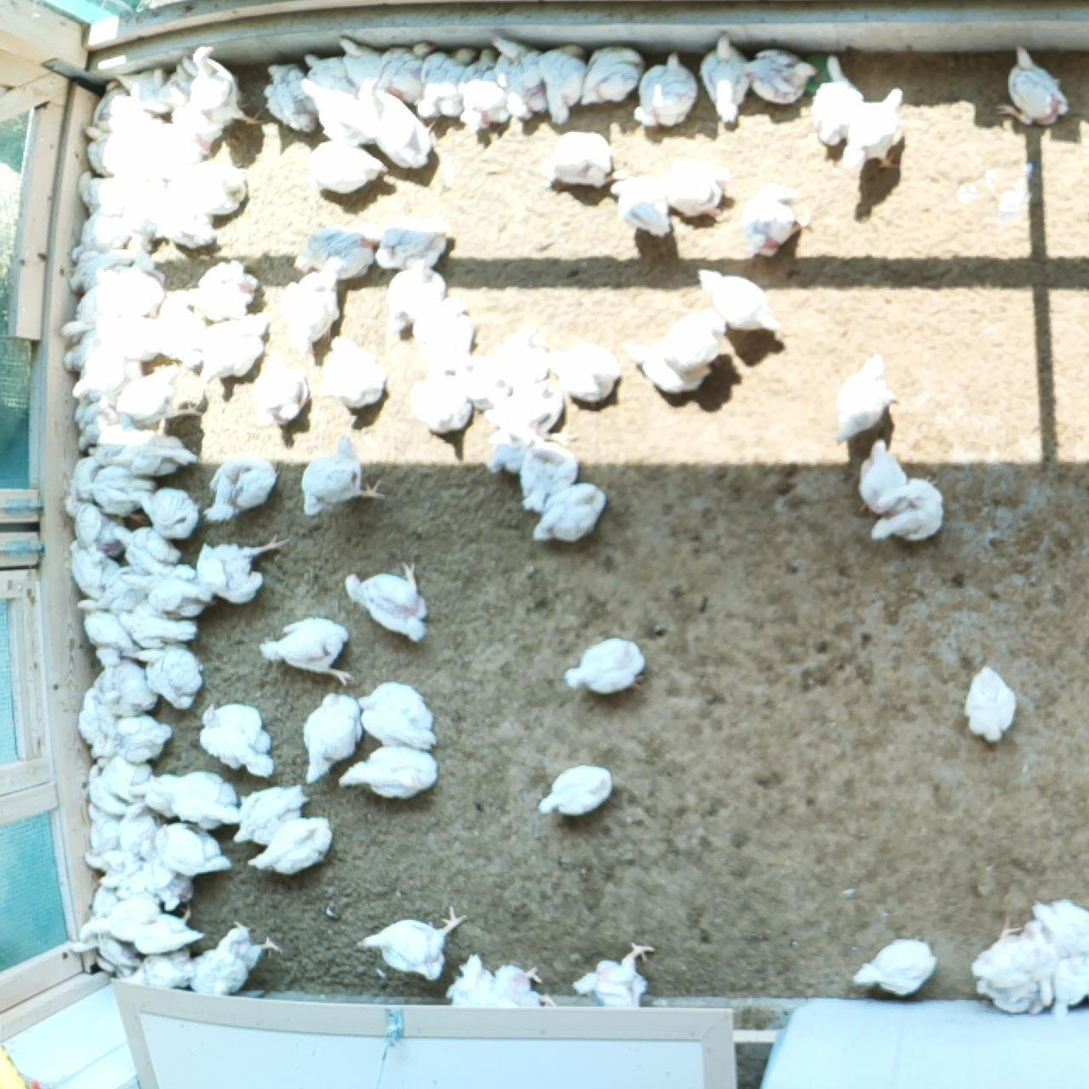chicken: (356, 904, 464, 981), (296, 430, 387, 519), (337, 560, 428, 644), (188, 917, 280, 999), (193, 532, 288, 610), (443, 947, 555, 1013), (994, 45, 1076, 133), (182, 48, 264, 133), (832, 349, 898, 449), (570, 938, 657, 1013), (277, 254, 343, 352), (692, 265, 782, 336), (837, 85, 911, 171), (193, 310, 275, 386), (259, 617, 350, 685), (204, 452, 282, 530), (113, 359, 206, 424), (197, 702, 276, 778), (807, 51, 867, 150), (333, 747, 441, 802), (355, 680, 438, 751), (848, 939, 943, 1000), (298, 76, 378, 148), (302, 689, 362, 785), (543, 126, 633, 189), (656, 156, 737, 226), (545, 335, 620, 410), (869, 473, 948, 544), (301, 137, 393, 197), (621, 336, 711, 396), (961, 661, 1023, 748), (487, 317, 557, 394), (697, 30, 753, 126), (629, 51, 697, 130), (379, 258, 448, 335), (246, 813, 334, 873), (323, 333, 389, 412), (565, 635, 649, 697), (371, 87, 433, 171), (374, 211, 455, 275), (248, 346, 311, 428), (737, 176, 803, 254), (101, 427, 196, 481), (970, 914, 1039, 988), (231, 782, 312, 845), (128, 643, 203, 711), (116, 566, 212, 619), (455, 42, 512, 131), (529, 480, 607, 544), (491, 35, 549, 121), (257, 58, 320, 137), (57, 493, 128, 562), (83, 644, 154, 713), (740, 46, 820, 107), (414, 45, 476, 123), (414, 291, 476, 369), (168, 770, 243, 834), (661, 305, 730, 374), (856, 435, 915, 515), (536, 759, 615, 818), (483, 379, 563, 437), (136, 832, 196, 908), (116, 600, 202, 653), (447, 349, 518, 413), (175, 159, 252, 218), (519, 440, 578, 516), (73, 461, 153, 517), (536, 38, 588, 124), (150, 291, 205, 372), (293, 227, 377, 280), (406, 369, 475, 433), (609, 169, 671, 240), (578, 42, 646, 106), (108, 519, 180, 579), (78, 890, 161, 941), (192, 257, 257, 321), (73, 596, 137, 661), (123, 944, 205, 994), (111, 909, 201, 954), (375, 38, 437, 103), (131, 483, 198, 543), (70, 344, 141, 400), (1030, 895, 1089, 961), (90, 261, 163, 314), (68, 928, 142, 980), (176, 54, 246, 108), (70, 687, 121, 761), (156, 824, 230, 875), (485, 414, 543, 478), (93, 310, 164, 361), (64, 537, 121, 599), (65, 207, 129, 262), (56, 280, 115, 339), (1021, 919, 1061, 1005), (336, 32, 383, 104), (71, 389, 122, 455), (111, 65, 176, 116), (86, 410, 142, 469), (109, 712, 172, 764), (92, 750, 152, 804), (122, 184, 168, 254), (168, 99, 223, 157), (153, 200, 218, 249), (1049, 946, 1089, 1021), (970, 977, 1039, 1020), (81, 120, 128, 178), (84, 74, 133, 128), (300, 47, 357, 92), (94, 869, 162, 904), (145, 122, 204, 162), (84, 762, 124, 821), (140, 770, 185, 822), (81, 847, 140, 885), (65, 448, 106, 502), (63, 241, 106, 292), (73, 168, 122, 211), (119, 800, 156, 854), (62, 327, 102, 376), (84, 800, 119, 851), (164, 56, 194, 106), (84, 880, 121, 918)
